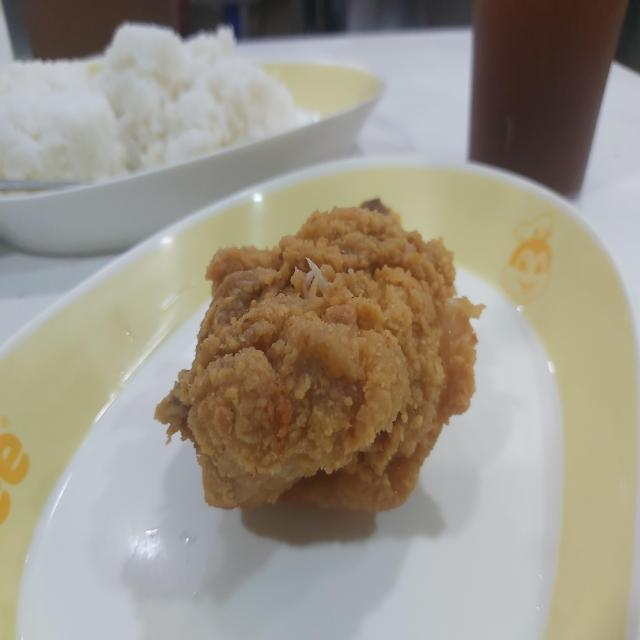Chicken -Fried Chicken-: (179, 192, 475, 519)
